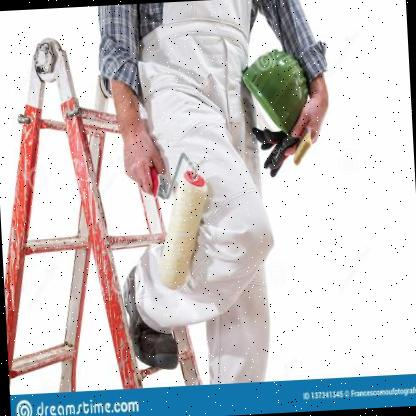bota: (119, 261, 184, 374)
